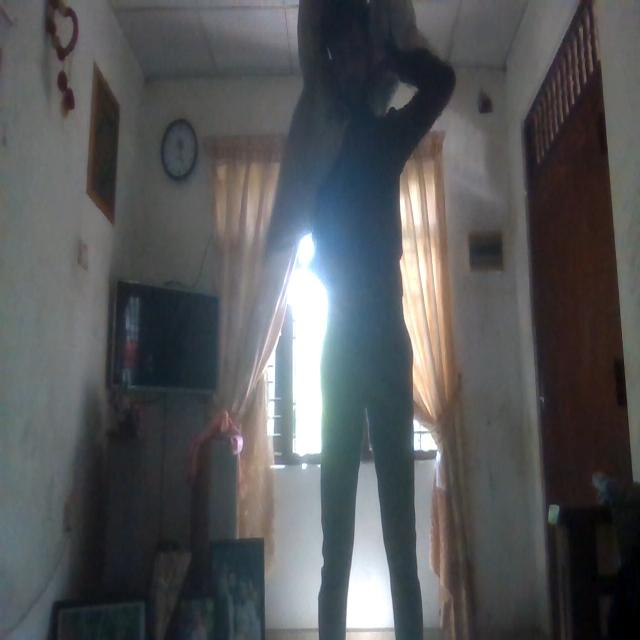Jacket_Wearer: (284, 11, 437, 305)
Person: (284, 0, 441, 620)
